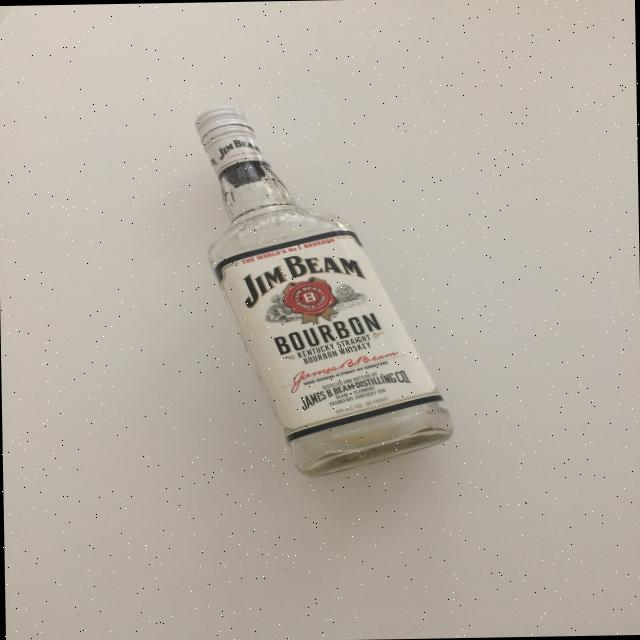glass: (192, 101, 454, 479)
